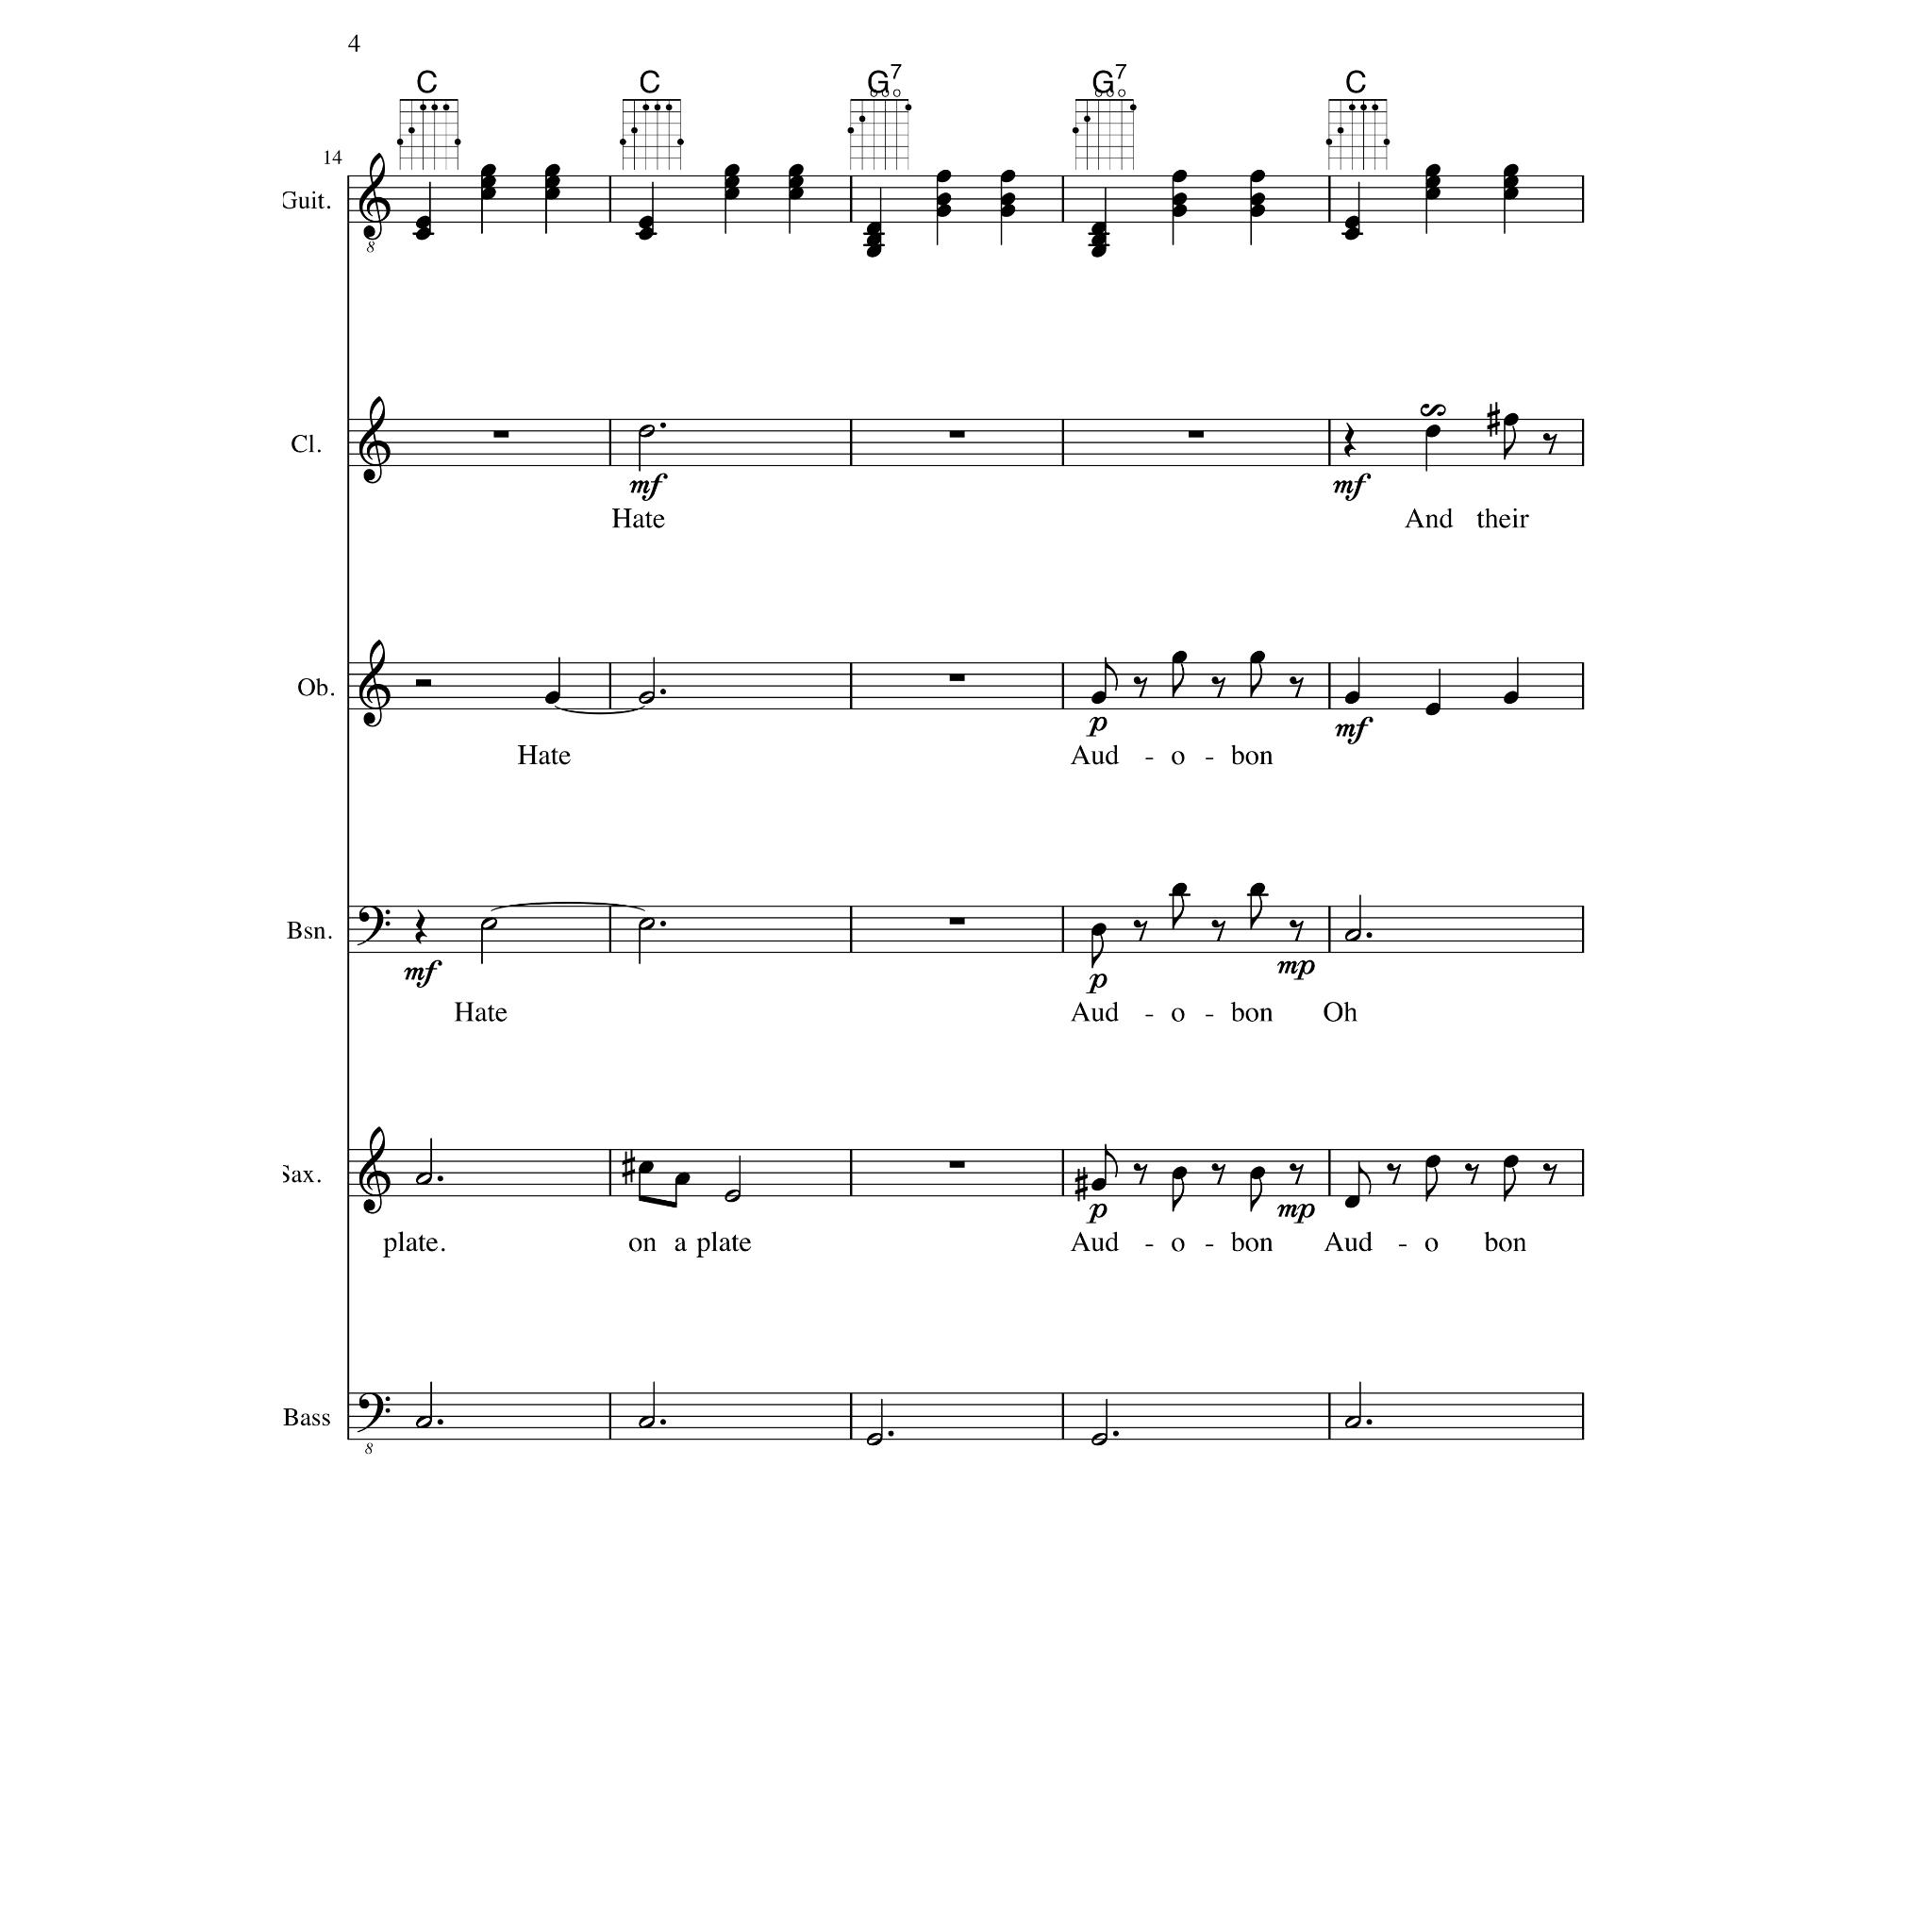fClef: (357, 906, 391, 947), (357, 1392, 391, 1434)
flag8thDown: (1172, 663, 1185, 697), (1172, 895, 1185, 929), (1172, 1177, 1185, 1211), (1092, 934, 1104, 970), (1251, 1177, 1262, 1211), (1251, 663, 1262, 697), (1251, 895, 1262, 929), (1504, 426, 1515, 460), (1504, 1168, 1515, 1202), (1426, 1168, 1438, 1202)
flag8thUp: (1358, 1161, 1372, 1195), (1105, 658, 1118, 691), (1105, 1144, 1118, 1178)
gClef: (358, 153, 391, 241), (358, 396, 391, 485), (358, 639, 391, 727), (358, 1126, 391, 1215)
noteheadBlack: (1343, 691, 1360, 706), (543, 691, 560, 706), (1091, 691, 1108, 706), (674, 1172, 691, 1187), (1504, 691, 1519, 706), (1249, 1166, 1266, 1179), (1249, 651, 1266, 664), (1249, 883, 1266, 896), (1343, 227, 1360, 241), (1343, 216, 1360, 229), (1343, 1195, 1360, 1208), (1249, 205, 1266, 218), (1249, 192, 1266, 206), (1249, 170, 1266, 183), (1424, 1155, 1441, 1168), (1424, 187, 1441, 200), (1424, 175, 1441, 189), (1424, 164, 1441, 177), (1424, 425, 1441, 438), (1424, 703, 1441, 716), (543, 175, 560, 189), (543, 164, 560, 177), (543, 187, 560, 200), (638, 227, 655, 241), (638, 216, 655, 229), (479, 164, 496, 177), (479, 187, 496, 200), (479, 175, 496, 189), (638, 1161, 655, 1174), (1091, 244, 1108, 258), (1091, 233, 1108, 246), (1091, 222, 1108, 235), (1091, 924, 1108, 937), (1091, 1178, 1108, 1191), (1172, 205, 1187, 218), (1172, 192, 1187, 206), (1172, 170, 1187, 183), (1172, 651, 1187, 664), (1172, 883, 1187, 896), (1172, 1166, 1187, 1179), (1504, 187, 1519, 200), (1504, 175, 1519, 189), (1504, 164, 1519, 177), (1504, 413, 1519, 426), (1504, 1155, 1519, 1168), (415, 227, 430, 241), (415, 216, 430, 229), (936, 192, 951, 206), (936, 170, 951, 183), (1000, 205, 1015, 218), (1000, 192, 1015, 206), (1000, 170, 1015, 183), (936, 205, 951, 218), (789, 175, 804, 189), (789, 187, 804, 200), (789, 164, 804, 177), (724, 175, 740, 189), (724, 187, 740, 200), (724, 164, 740, 177), (866, 244, 881, 258), (866, 233, 881, 246), (866, 222, 881, 235)
noteheadHalf: (1344, 928, 1361, 941), (1344, 1416, 1361, 1429), (638, 425, 655, 438), (638, 691, 655, 705), (638, 917, 655, 930), (480, 917, 497, 930), (638, 1416, 655, 1429), (415, 1173, 432, 1186), (415, 1416, 432, 1429), (1091, 1433, 1108, 1446), (724, 1190, 741, 1203), (866, 1433, 883, 1446)
rest8th: (1289, 676, 1304, 699), (1289, 920, 1304, 942), (1289, 1163, 1304, 1186), (1133, 920, 1148, 942), (1133, 1163, 1148, 1186), (1133, 676, 1148, 699), (1210, 676, 1225, 699), (1210, 920, 1225, 942), (1210, 1163, 1225, 1186), (1542, 1163, 1557, 1186), (1542, 433, 1557, 456), (1386, 1163, 1401, 1186), (1464, 1163, 1479, 1186)
restHalf: (415, 679, 432, 687)
restQuarter: (1343, 423, 1357, 458), (415, 909, 426, 945)
restWhole: (492, 431, 509, 439), (949, 431, 964, 439), (1189, 431, 1204, 439), (949, 1161, 964, 1169), (949, 675, 964, 682), (949, 918, 964, 925)
